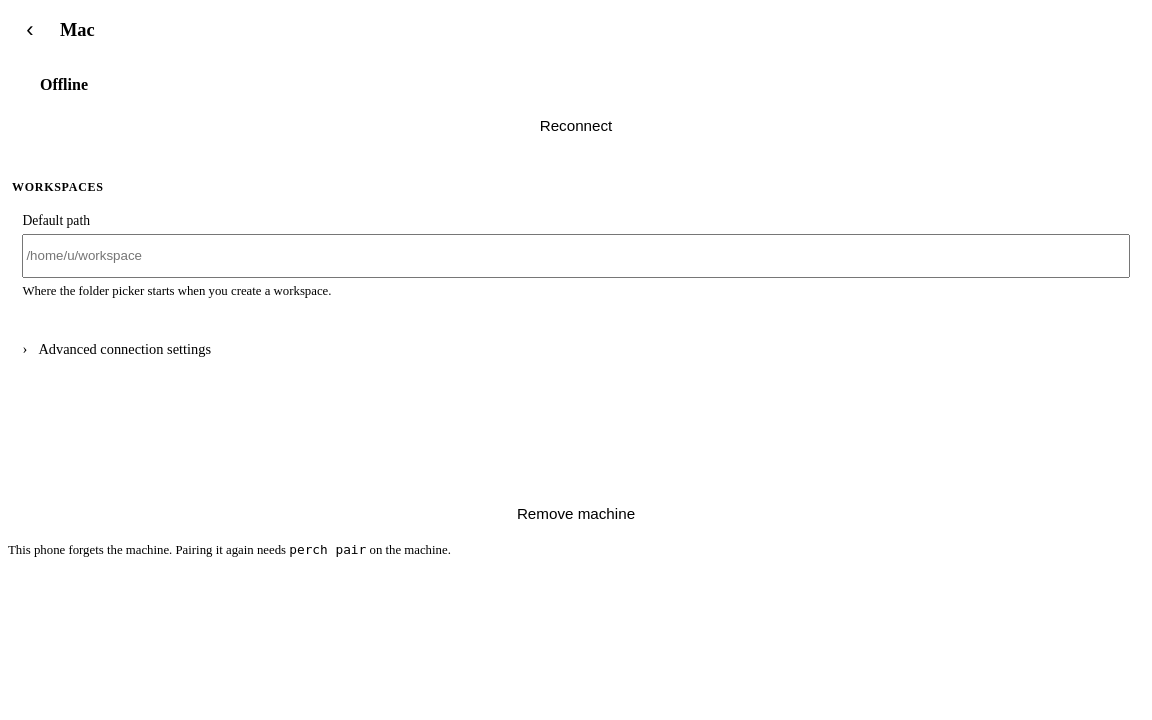
MachineDetail › removing › asks first, naming the machine, and does nothing until confirmed
Click the button "Remove machine": x=576, y=513 x1=8 y1=491 x2=1144 y2=535
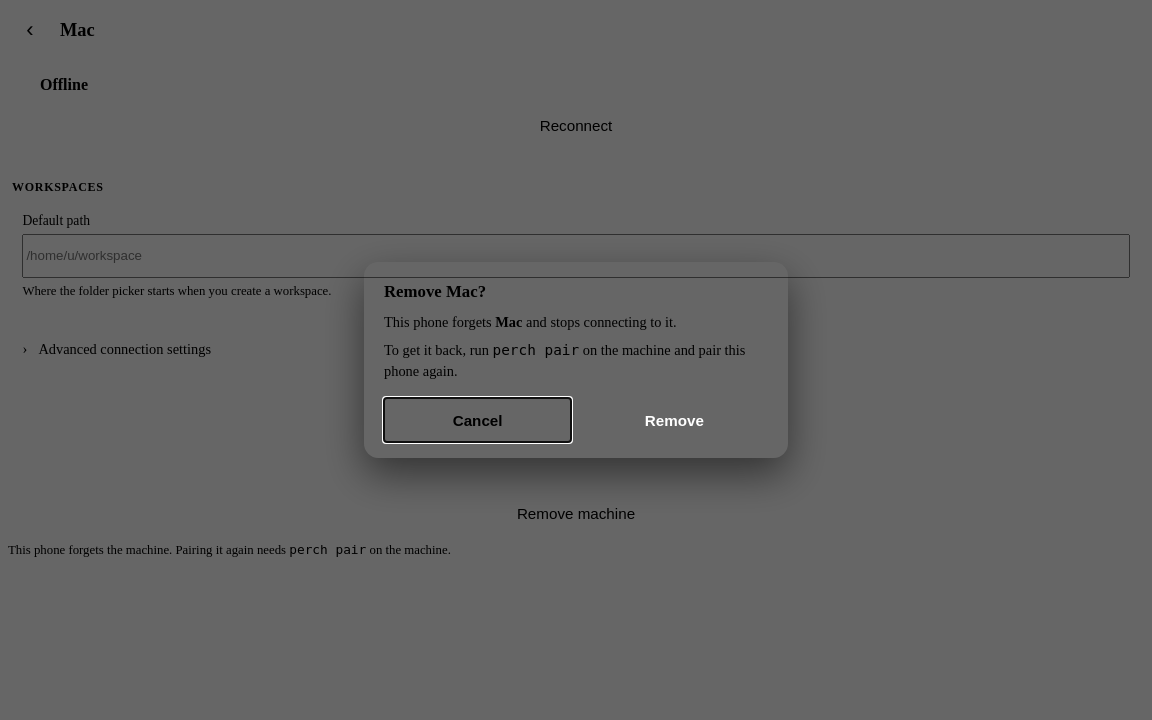
Now the dialog shows "Remove Mac?", box x1=384 y1=282 x2=486 y2=301
Now the dialog shows "perch pair", box x1=492 y1=342 x2=579 y2=358
